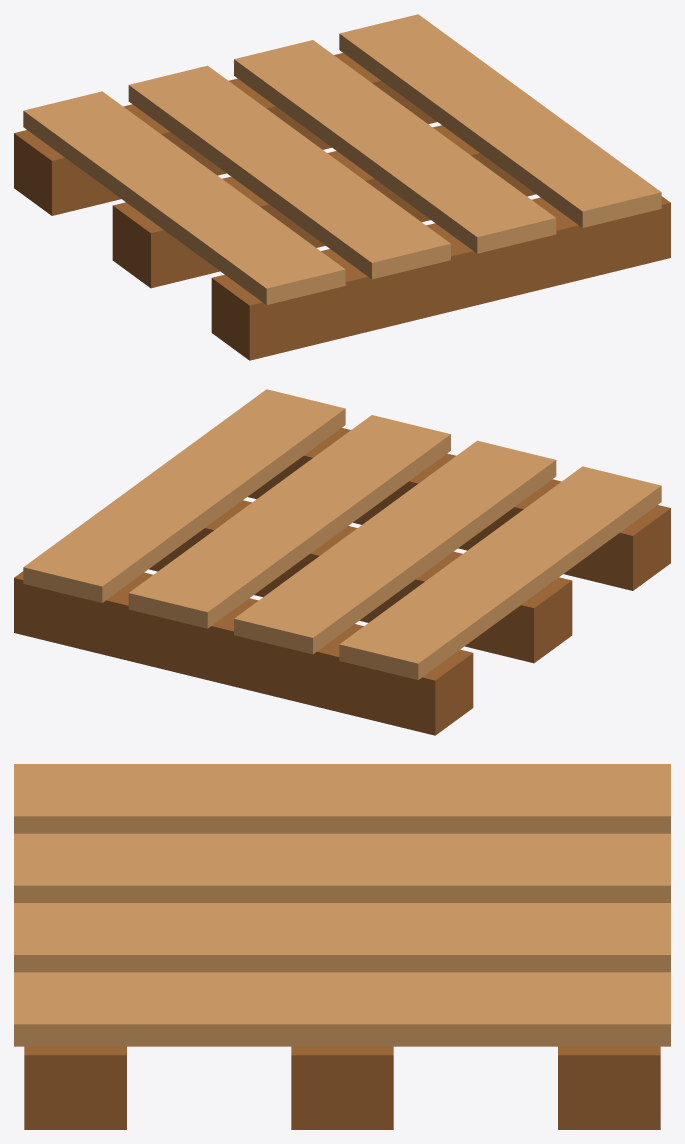
Rendered from Pallet.fbx.
3 renders of one model, top to bottom at view 1: azimuth 30°, elevation 25°; view 2: azimuth 150°, elevation 25°; view 3: azimuth 270°, elevation 25°, orthographic. The views are drawn at different scales.
Parts seen in each view (by area): view 1: Pallet; view 2: Pallet; view 3: Pallet.
Boxes of the visible parts, x1,y1,x2,y2 form: Pallet: [14, 14, 670, 360]; Pallet: [14, 389, 670, 735]; Pallet: [14, 764, 670, 1129].
Size of the model in its own units: 3.2 by 0.52 by 3.2.
1 material, 1 textured.
